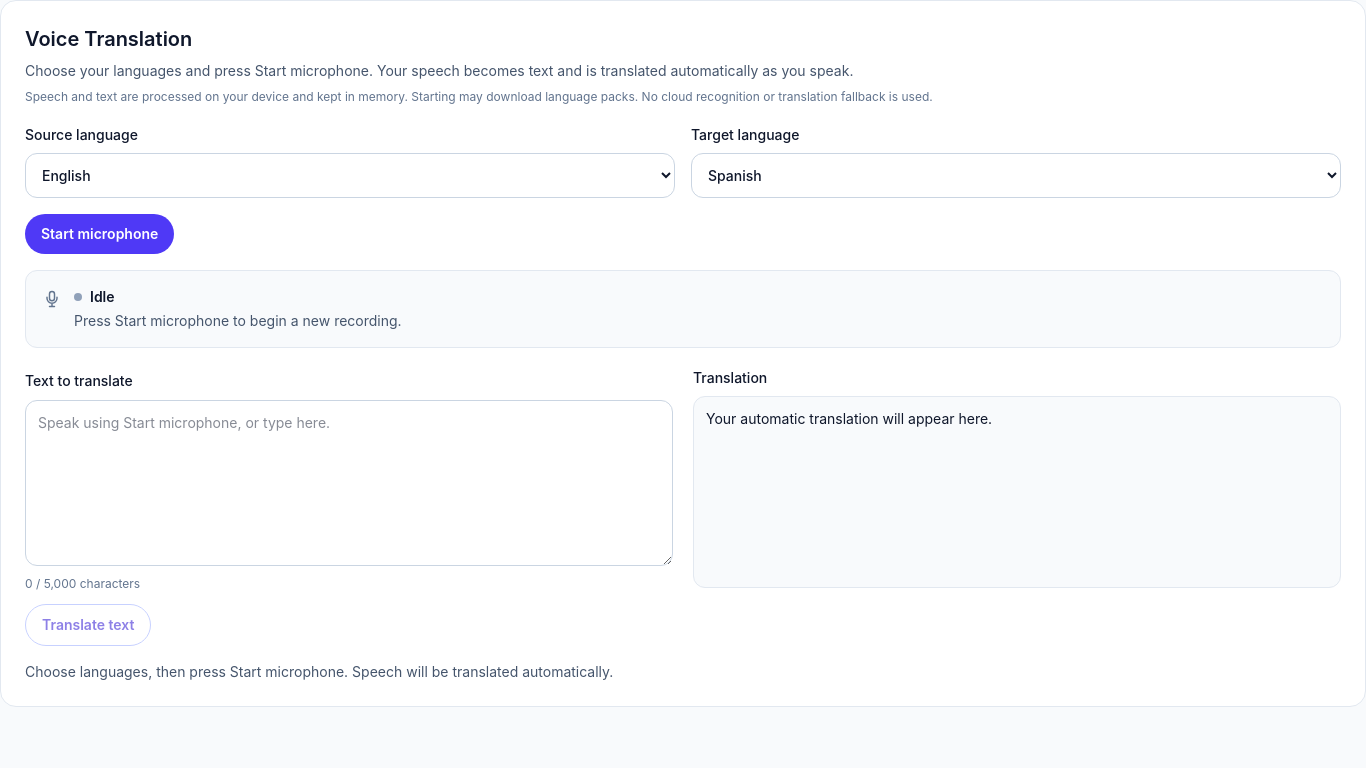
Test: serializes live translations and skips stale output when more speech arrives before a result
Later steps or results of the test are not shown.
Step 1. Click the button "Start microphone" → {"x": 100, "y": 234}, box [25,214,174,254]
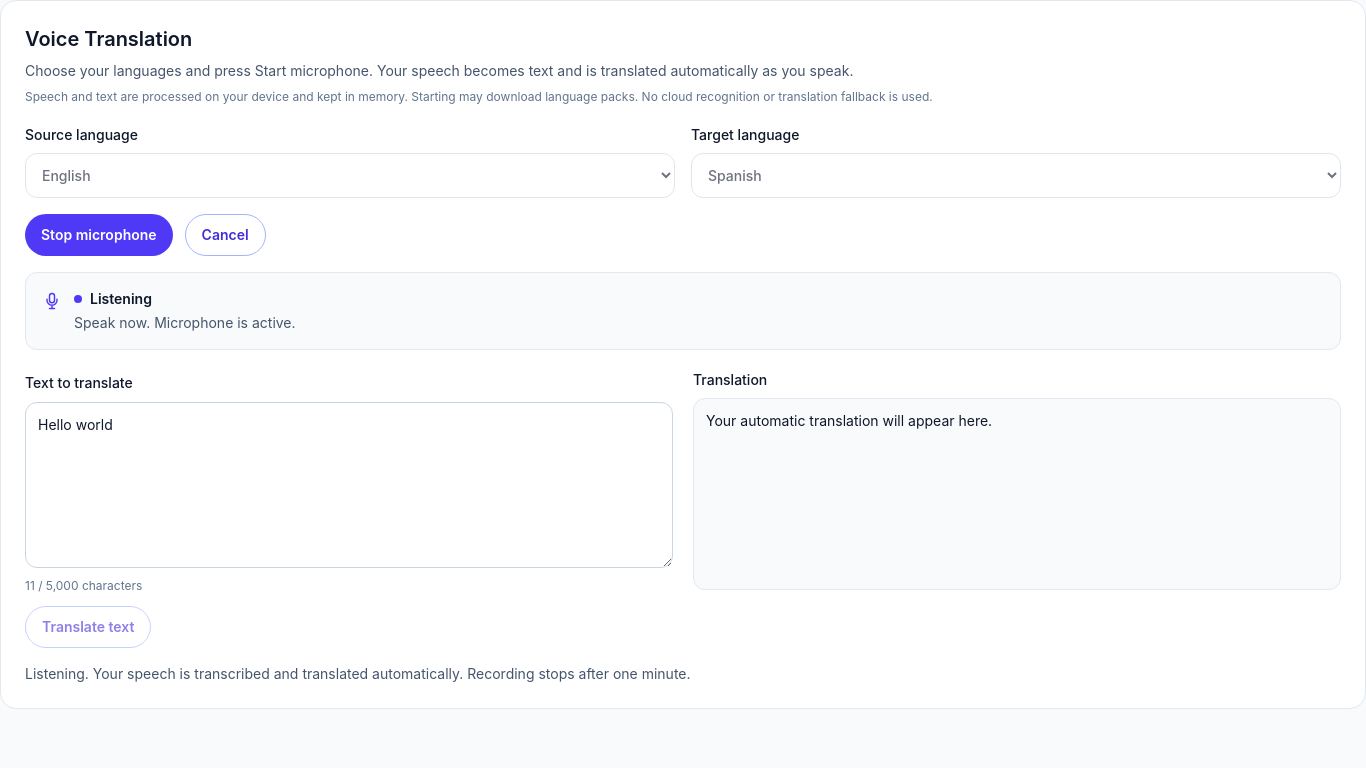
Expected: the button "Stop microphone" is shown
Step 2. Click the button "Stop microphone" → {"x": 99, "y": 235}, box [25,214,173,256]
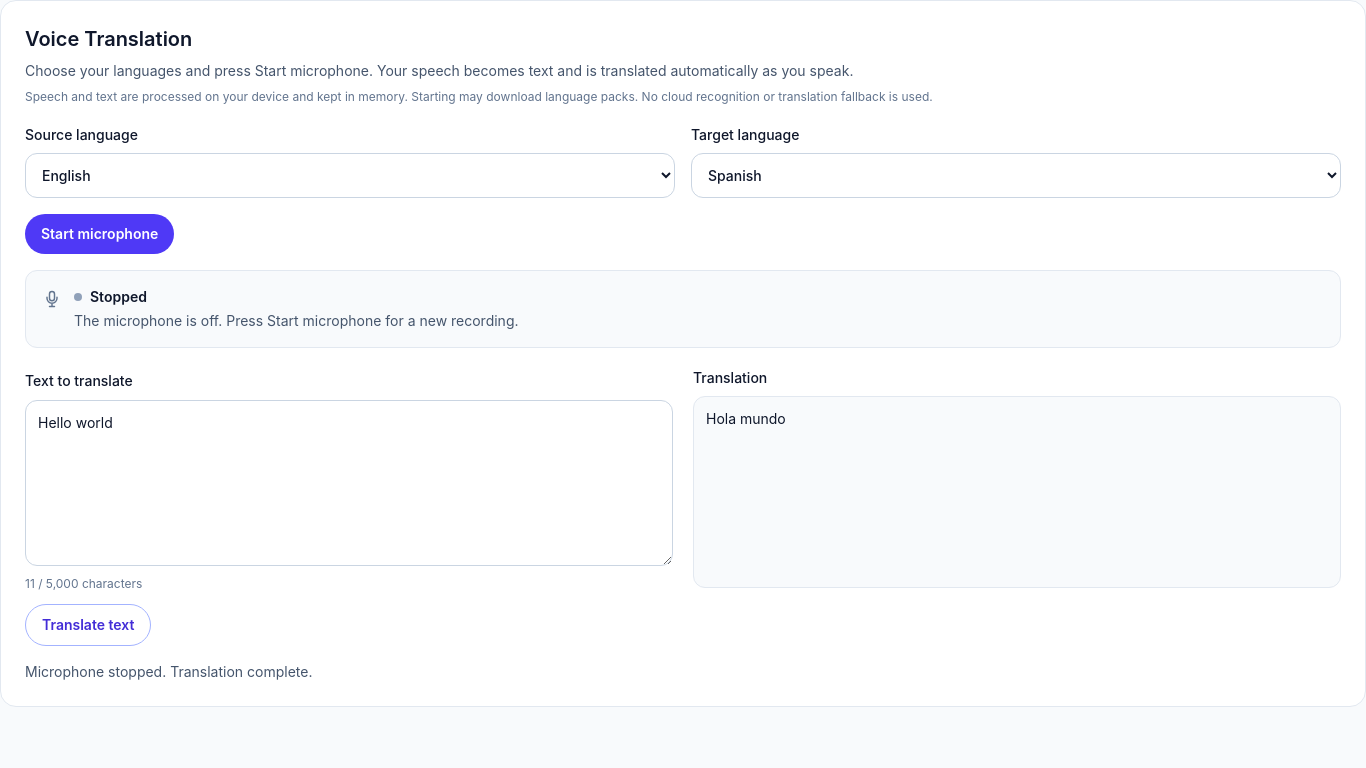
Expected: the text "Hola mundo" is shown, [693,396,1341,588]
Expected: the message shows "Translation complete", [25,663,312,680]
